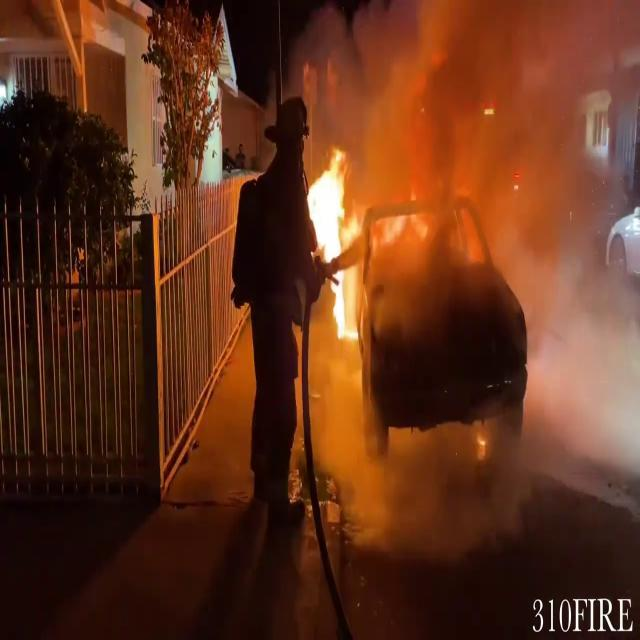Fire: (304, 141, 364, 353)
Smoke: (338, 0, 640, 507)
